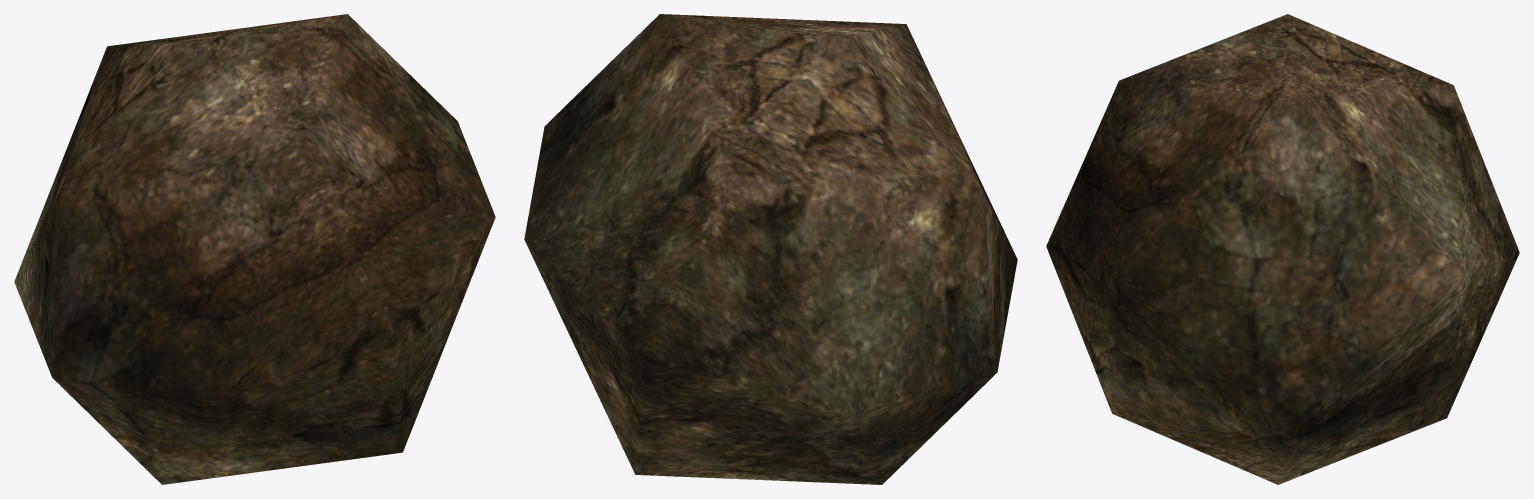
File: stone_16.obj
3 views of the same model, side by side, from view 1: azimuth 30°, elevation 25°; view 2: azimuth 150°, elevation 25°; view 3: azimuth 270°, elevation 25° (orthographic). The views are drawn at different scales.
Visible parts, largest first — view 1: (null); view 2: (null); view 3: (null).
Part boxes in pixels (x1,y1,x2,y2): (null): (14, 14, 495, 484); (null): (524, 14, 1017, 484); (null): (1046, 14, 1519, 484).
Size of the model in its own units: 1.17 by 1.17 by 1.23.
